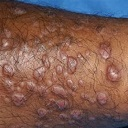Dystrophic Bullosa: (27, 44, 117, 117)
